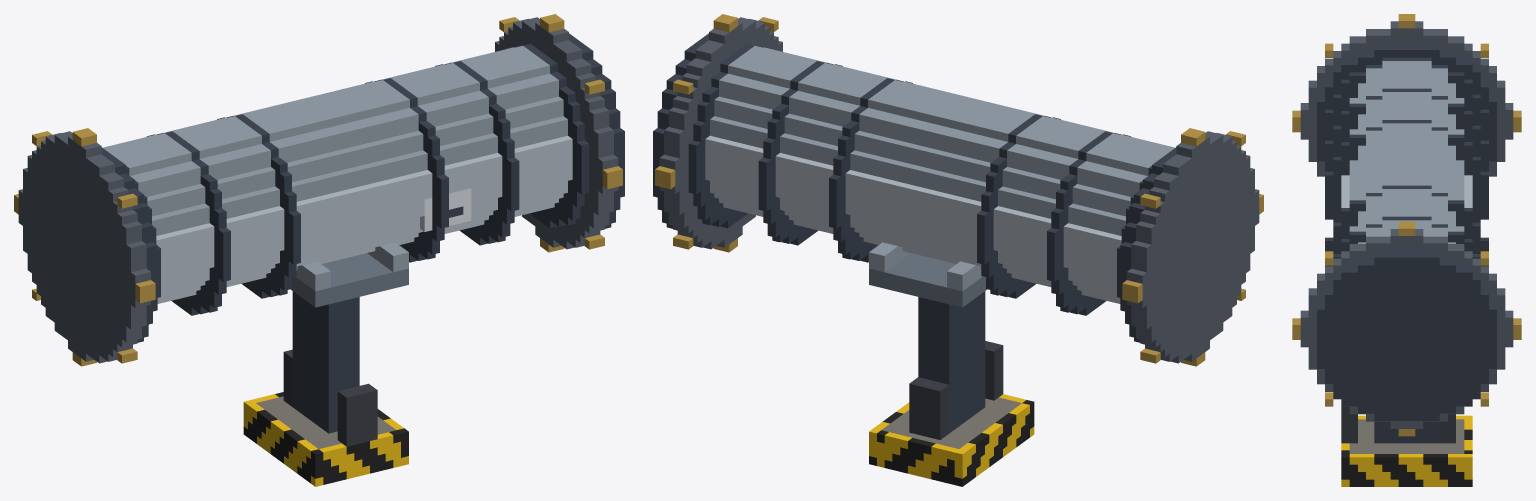
The model's file is pipe_straight.obj.
3 views of the same model, side by side, from view 1: azimuth 30°, elevation 25°; view 2: azimuth 150°, elevation 25°; view 3: azimuth 270°, elevation 25° (orthographic). The views are drawn at different scales.
Parts seen in each view (by area): view 1: pipe_straight; view 2: pipe_straight; view 3: pipe_straight.
Boxes of the visible parts, bbox=[...] form: pipe_straight: bbox=[14, 14, 624, 486]; pipe_straight: bbox=[653, 14, 1263, 486]; pipe_straight: bbox=[1292, 14, 1521, 486].
Bounding box in the file's own units: 2 × 1.44 × 0.875.
